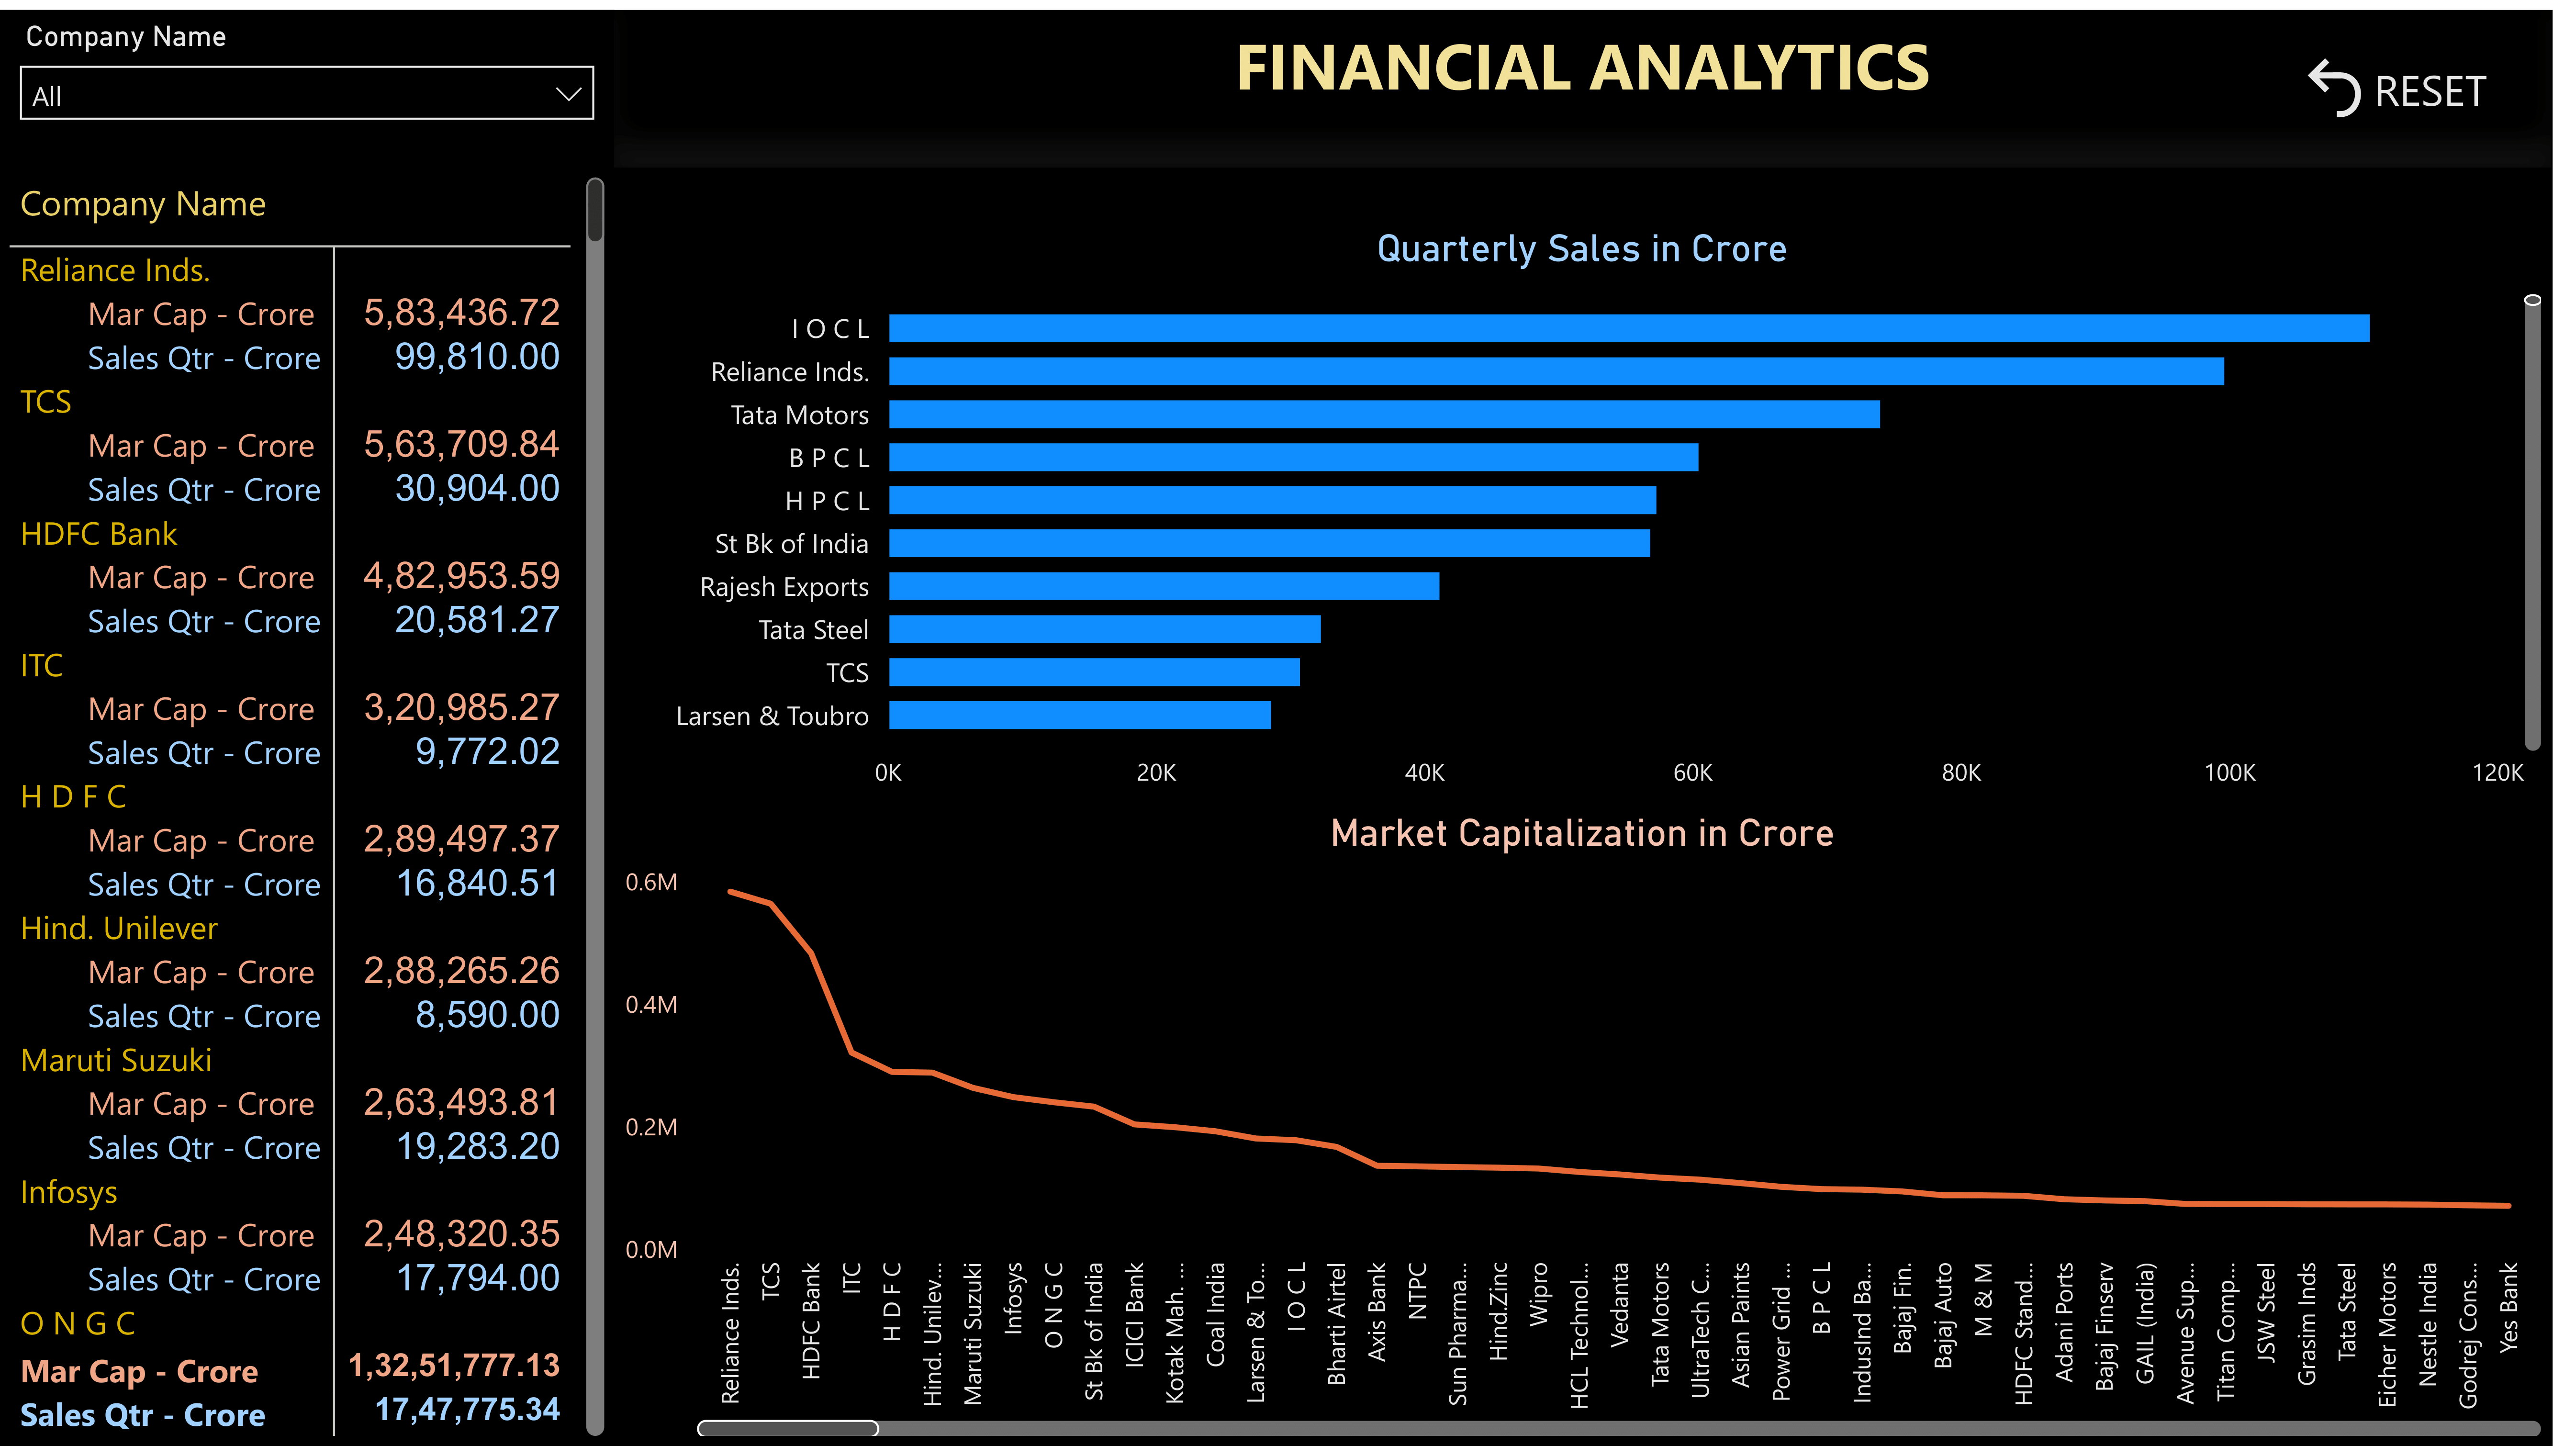

The page's visual inventory and layout, read from the dashboard file:
{"tool":"powerbi","page":{"name":"Financial Analytics","canvas":[1280,720],"ordinal":0},"visuals":[{"type":"lineChart","title":"Market Capitalization in Crore","fields":{"Category":["Financial Analytics data.Name"],"Y":["Sum(Financial Analytics data.Mar Cap - Crore)"]},"box":[308.3,400.5,971.1,319.5],"z":0},{"type":"pivotTable","fields":{"Rows":["Financial Analytics data.Name"],"Values":["Sum(Financial Analytics data.Mar Cap - Crore)","Sum(Financial Analytics data.Sales Qtr - Crore)"]},"box":[0,79.4,308,640.6],"z":1000},{"type":"slicer","fields":{"Values":["Financial Analytics data.Name"]},"box":[0,0,308,79.4],"z":2000},{"type":"textbox","box":[308,0,971.3,79.4],"z":3000},{"type":"clusteredBarChart","title":"Quarterly Sales in Crore","fields":{"Category":["Financial Analytics data.Name"],"Y":["Sum(Financial Analytics data.Sales Qtr - Crore)"]},"box":[308.3,108.1,971.1,292.5],"z":4000},{"type":"actionButton","box":[1150.9,18.9,100.2,39.7],"z":5000}]}

Visuals, with their boxes in screenshot pixels (x1, y1, x2, y2), scaled from the page's 1280x720 canvas onto the 2553x1456 screenshot:
"Market Capitalization in Crore" lineChart: x1=615, y1=810, x2=2552, y2=1456
pivotTable - Financial Analytics data.Name x Sum(Financial Analytics data.Mar Cap - Crore): x1=0, y1=160, x2=614, y2=1456
slicer - Financial Analytics data.Name: x1=0, y1=0, x2=614, y2=160
textbox: x1=614, y1=0, x2=2552, y2=160
"Quarterly Sales in Crore" clusteredBarChart: x1=615, y1=219, x2=2552, y2=810
actionButton: x1=2295, y1=38, x2=2496, y2=119
